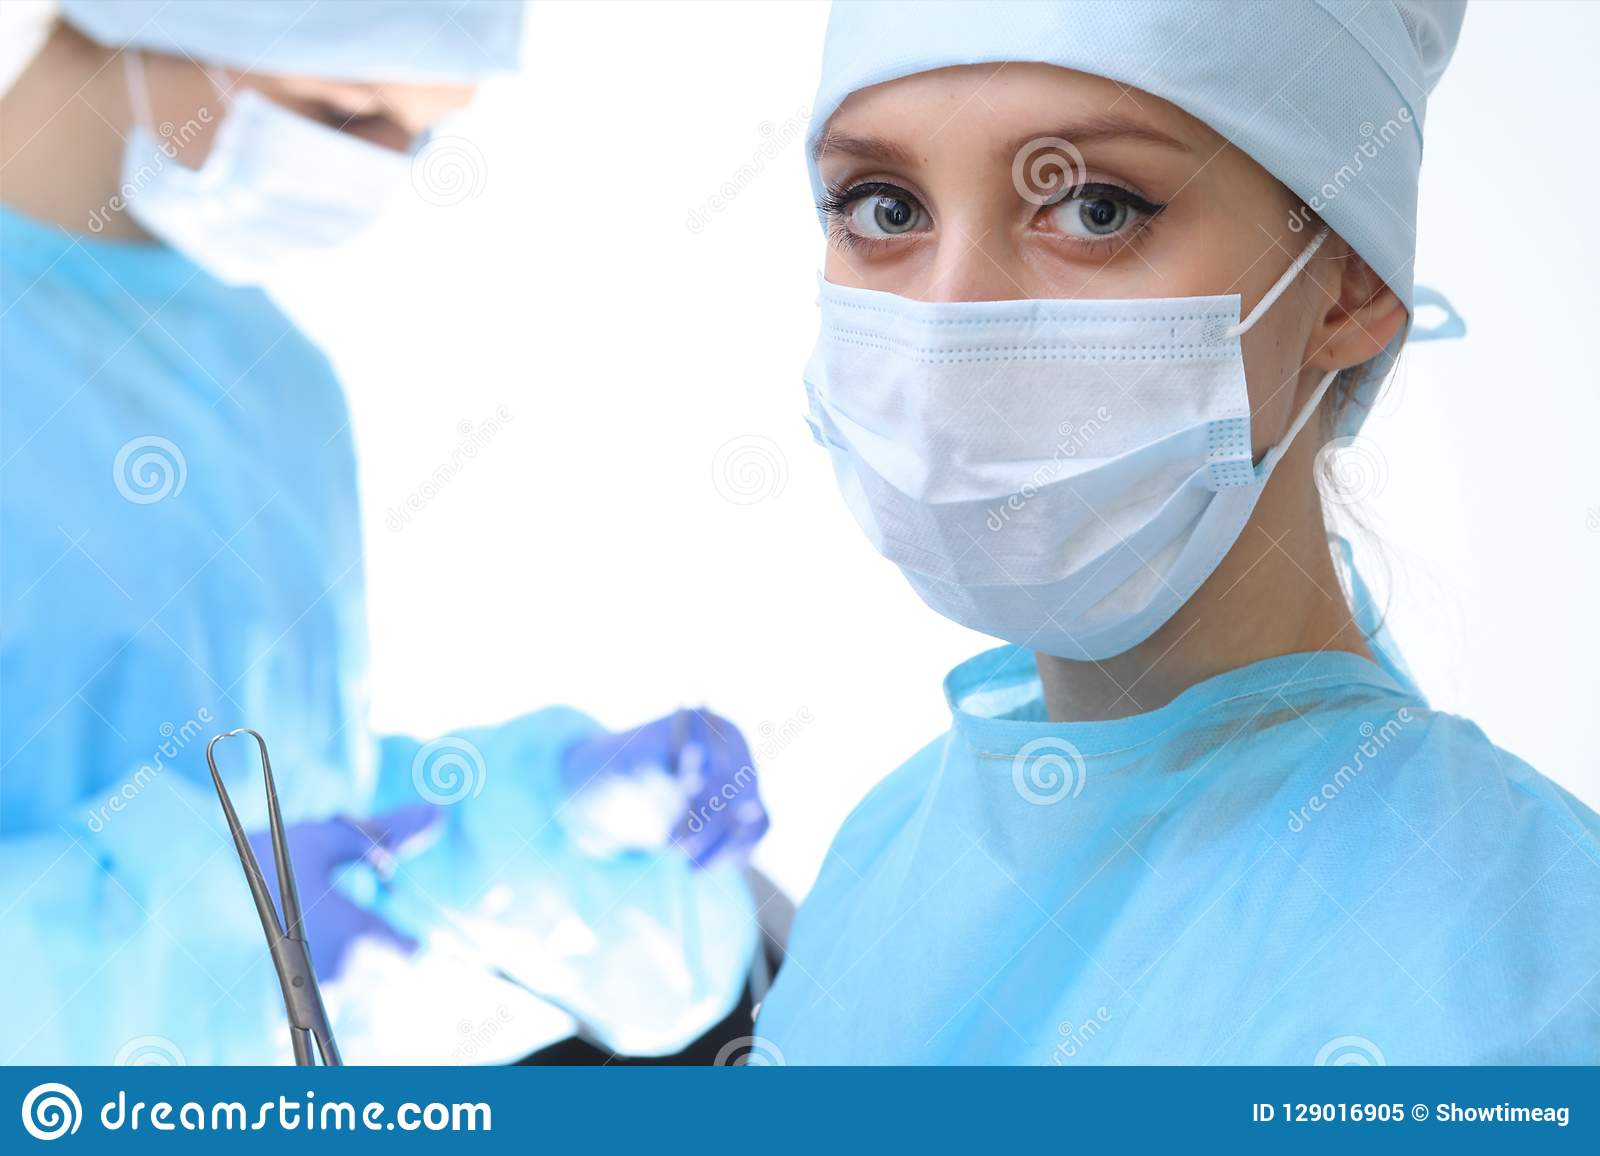mask: (796, 282, 1284, 653)
